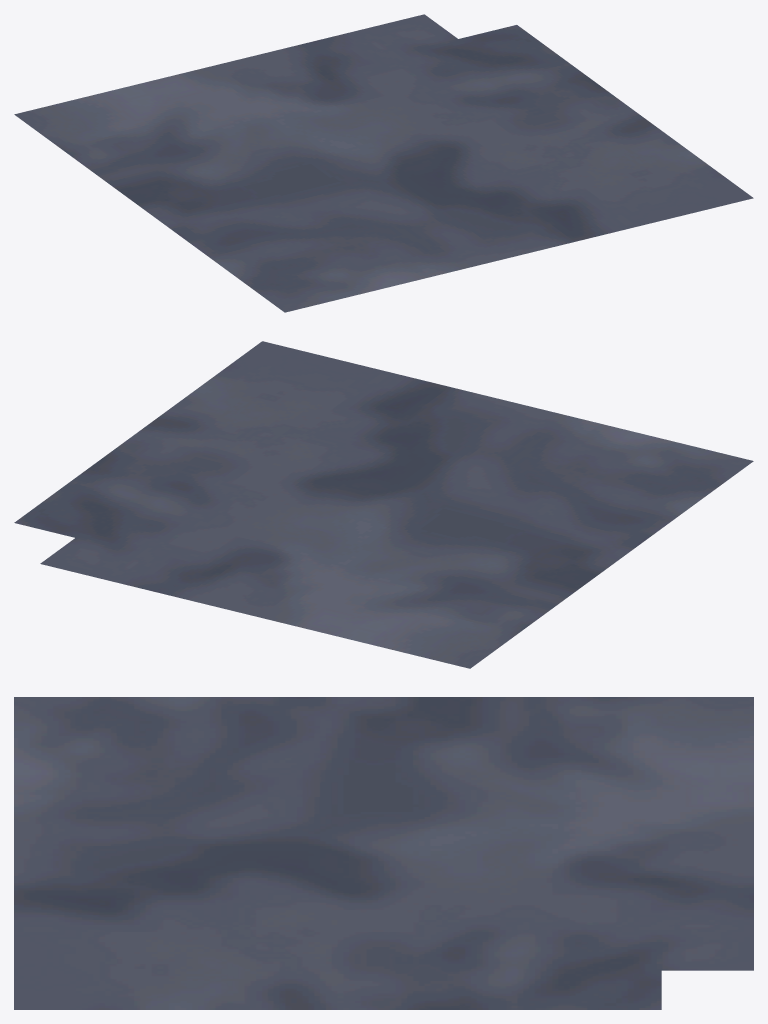
File: WaterPlane_C_Distant.fbx
The picture shows the model from 3 angles, top to bottom: view 1: azimuth 30°, elevation 25°; view 2: azimuth 150°, elevation 25°; view 3: azimuth 270°, elevation 25°; orthographic projection. The views are drawn at different scales.
Parts seen in each view (by area): view 1: SM_ENV_AMVLLG02_WaterPlane_C_Distant.mo; view 2: SM_ENV_AMVLLG02_WaterPlane_C_Distant.mo; view 3: SM_ENV_AMVLLG02_WaterPlane_C_Distant.mo.
Boxes of the visible parts, x1,y1,x2,y2 form: SM_ENV_AMVLLG02_WaterPlane_C_Distant.mo: (14, 14, 753, 312); SM_ENV_AMVLLG02_WaterPlane_C_Distant.mo: (14, 341, 753, 668); SM_ENV_AMVLLG02_WaterPlane_C_Distant.mo: (14, 697, 753, 1009).
Bounding box in the file's own units: 240801 × 0.0392 × 240801.
